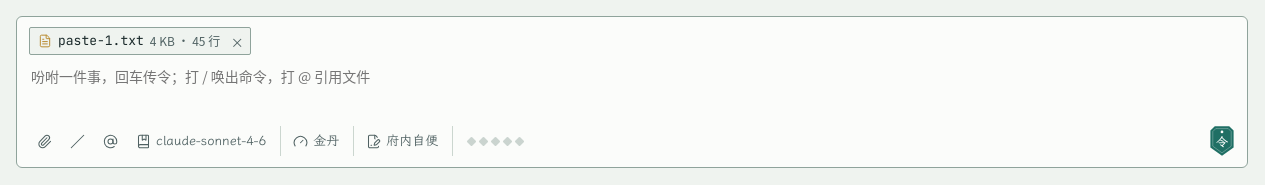
Test: Composer component (P1-15 & P2-12) › collapses oversized pasted text into a chip and calls removePastedFile when removed unsent
The image size is (1265, 185).
Expected: the text "paste-1.txt" is shown, [58,30,144,52]
Click the button named "去掉 paste-1.txt".
click(237, 41)  # box [228,32,246,50]
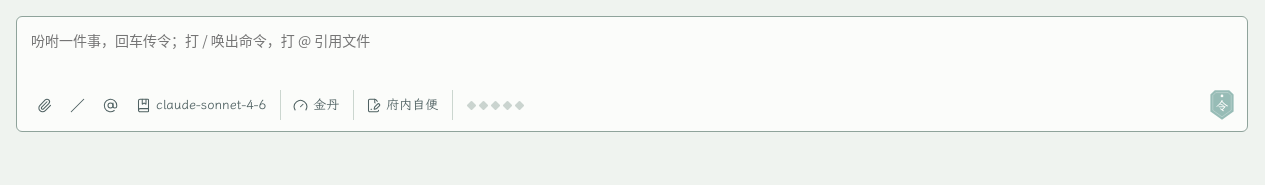
Now the button "paste-1.txt" is gone
